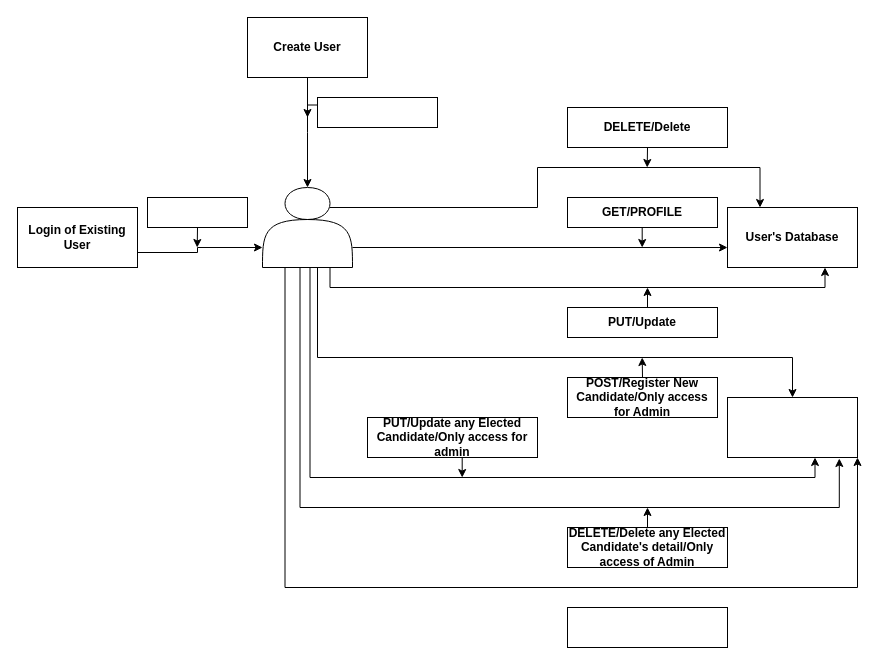
This 883x666 diagram has some shape labels left out. The shapes that lost their labels are listed below. From the top down, each one's centre as x and y in pixels, then its label:
At (x=377, y=112): "POST/Signup".
At (x=197, y=212): "POST/Login".
At (x=792, y=427): "Voting Candidate's Database".
At (x=647, y=627): "POST/Vote any candidate/Open for all users except admin".
